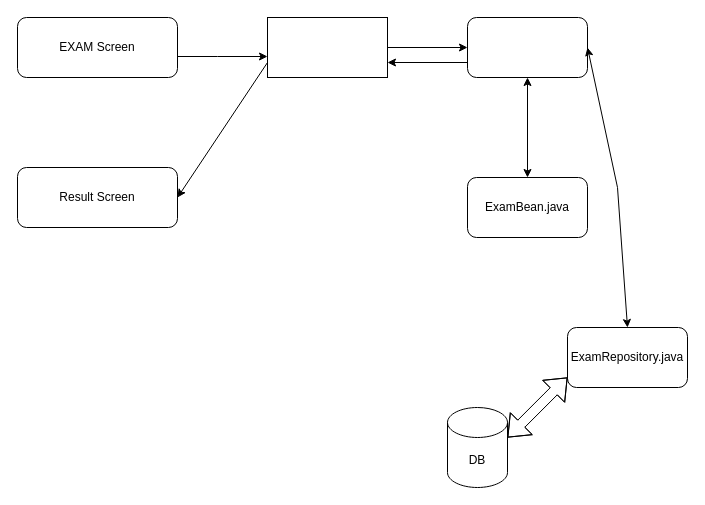
The diagram is 705 pixels wide and 505 high, and some of its shapes have lost their labels. Each missing label, with the centre of its shape:
ExamController.java: the point at 327,47
ExamService.java: the point at 527,47
